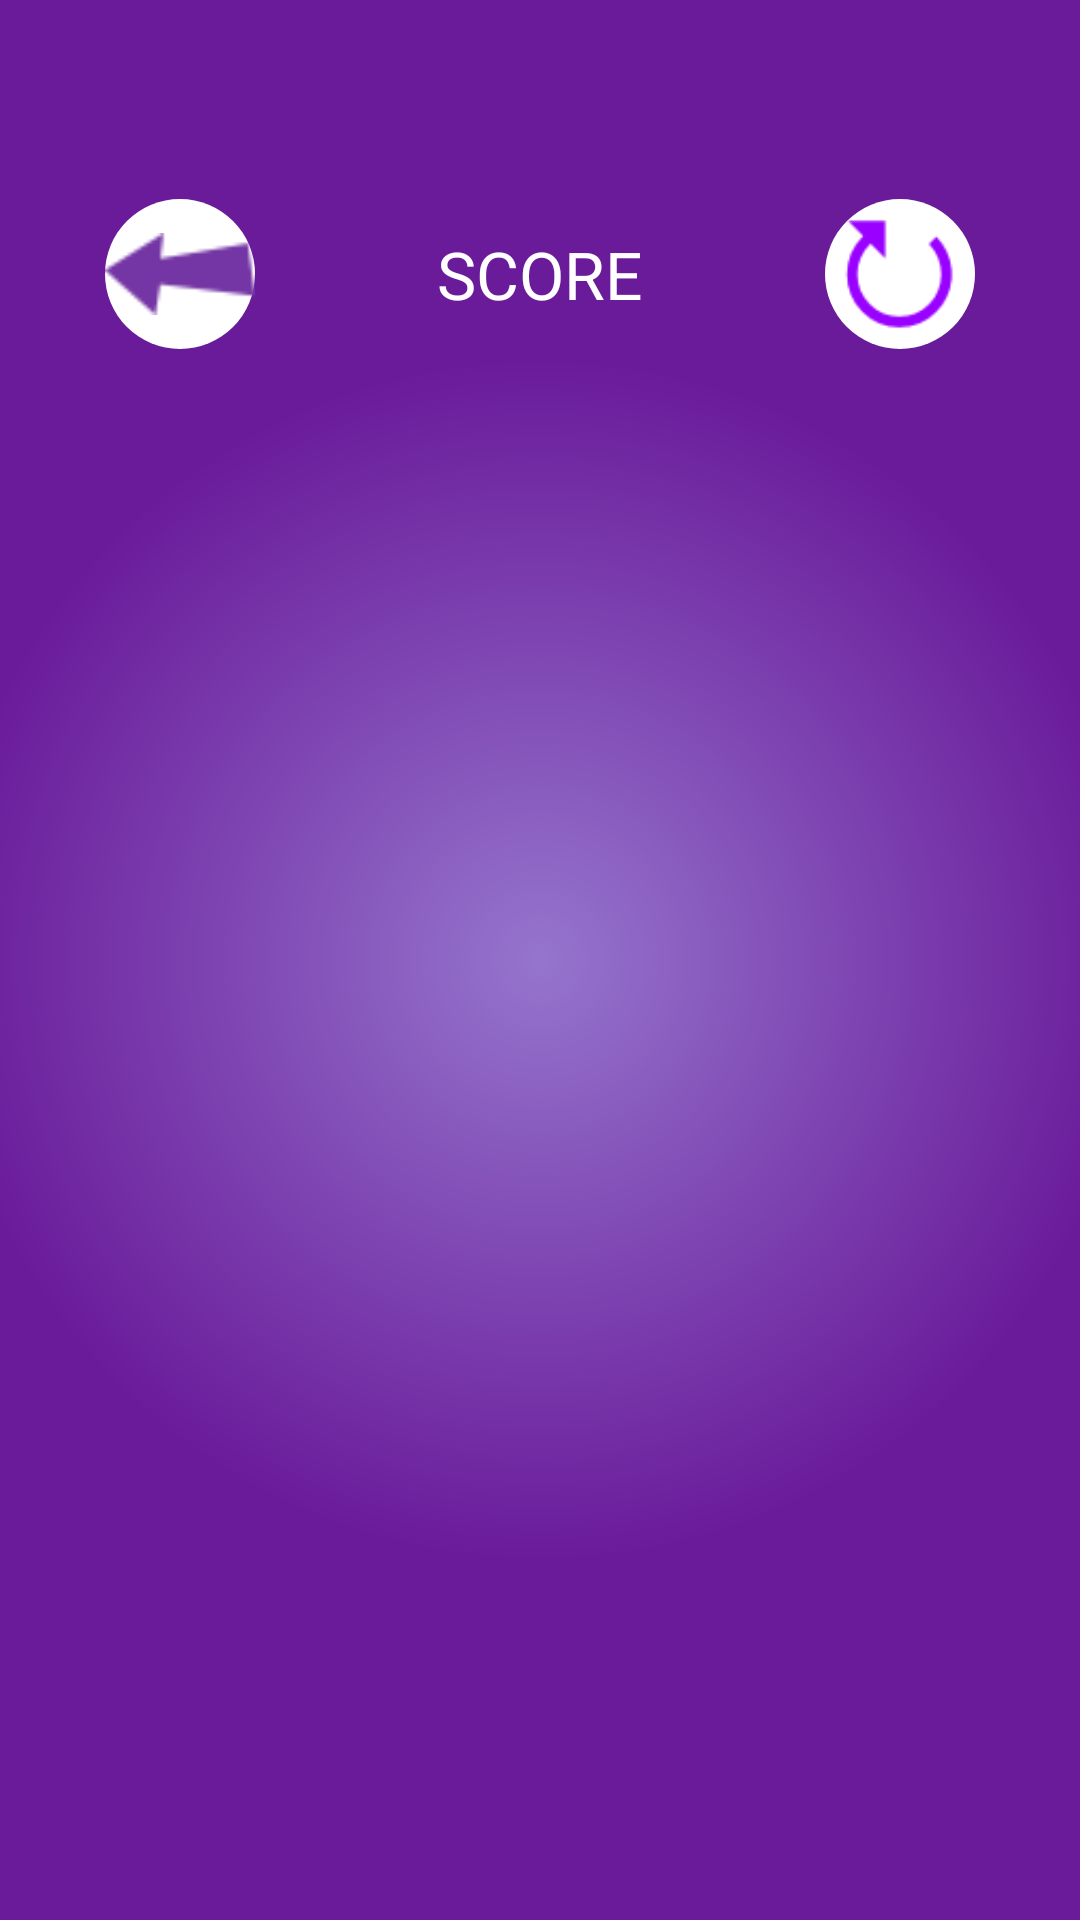

Icon bounding boxes for this 1080*1920 phone screenshot, format [left=x1, top=y1, right=x2, bottom=y2]:
back arrow: [left=105, top=199, right=255, bottom=349]
retry: [left=825, top=199, right=975, bottom=349]
